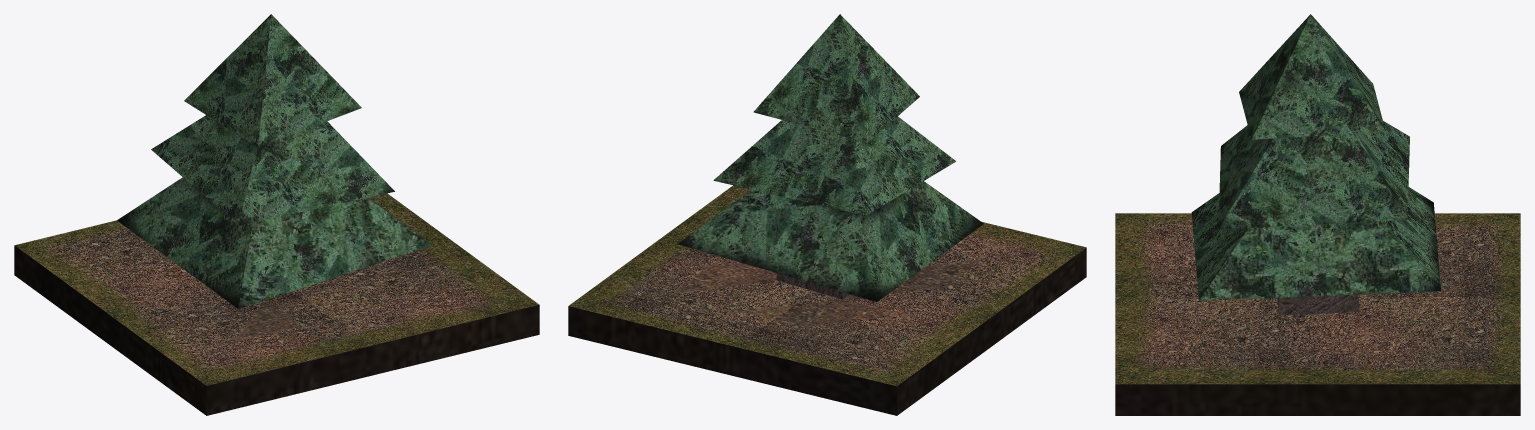
File: SimpleTree5.glb
The picture shows the model from 3 angles, left to right: view 1: azimuth 30°, elevation 25°; view 2: azimuth 150°, elevation 25°; view 3: azimuth 270°, elevation 25°; orthographic projection. The views are drawn at different scales.
Visible parts, largest first — view 1: Cube; view 2: Cube; view 3: Cube.
Part boxes in pixels (<box>): Cube: <box>14,14,539,415</box>; Cube: <box>568,14,1086,415</box>; Cube: <box>1115,14,1520,415</box>.
Bounding box in the file's own units: 2 × 1.7 × 2.
1 material, 1 textured.
